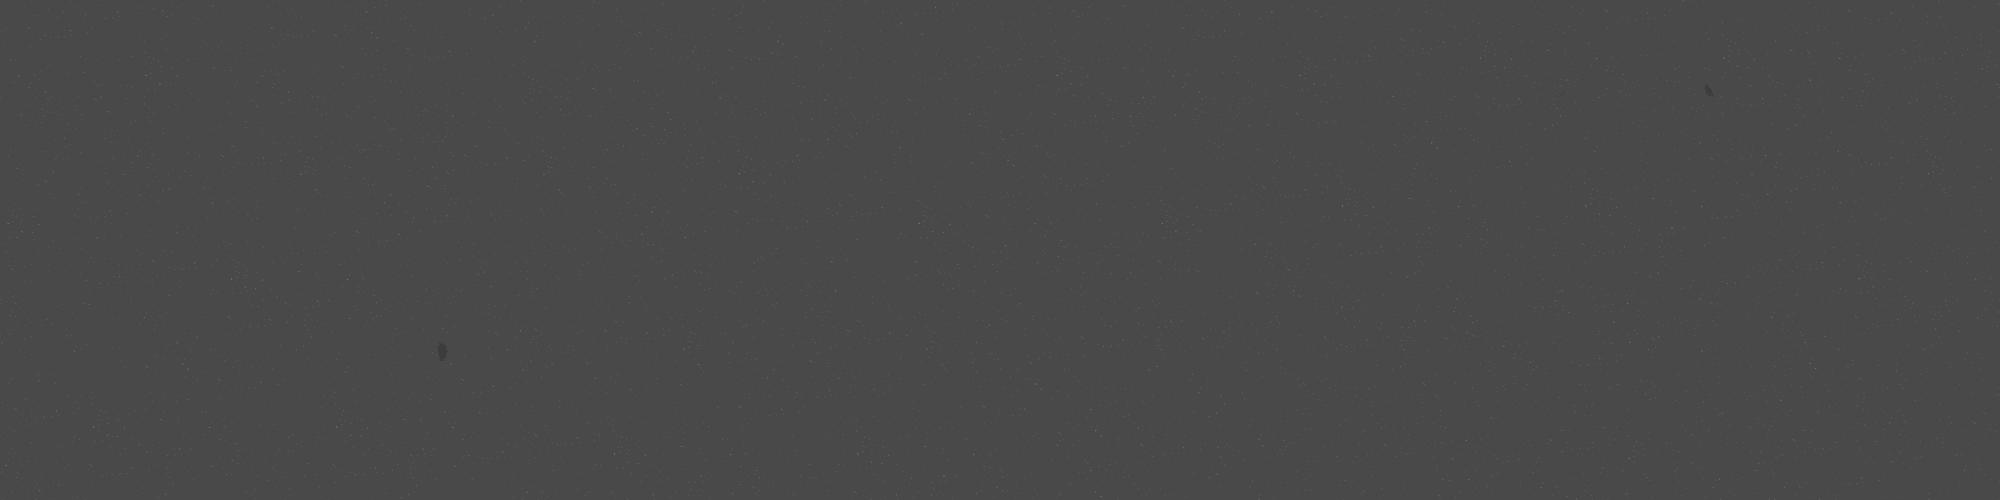Decomposed: (434, 338, 452, 369)
